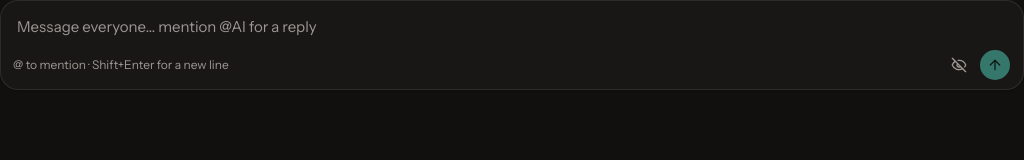
Test: Composer mentions › @ lists AI, everyone and people (not me); picking inserts a chip
Later steps or results of the test are not shown.
Type "@" into the text box labelled "Message" at [512, 27], box [9, 9, 1015, 45]
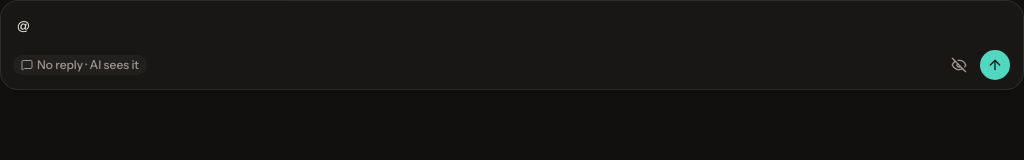
Press Enter in the text box named "Message", box [9, 9, 1015, 45]
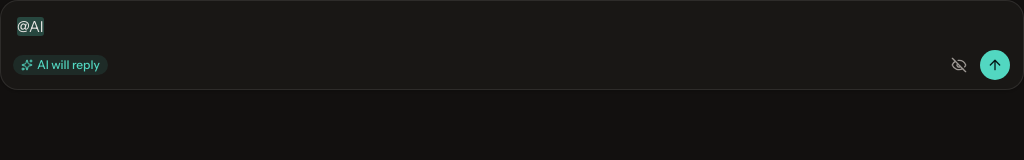
Expected: the text box named "Message" holds "@AI ", [9, 9, 1015, 45]
